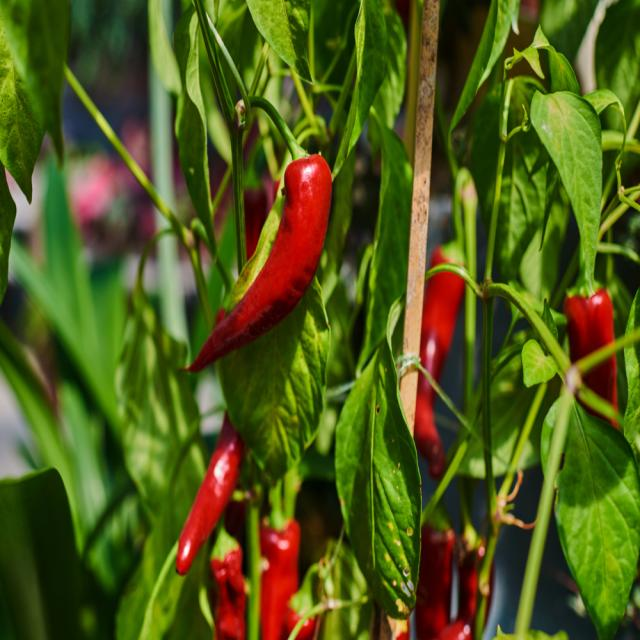Ripe: (188, 155, 331, 371), (414, 249, 469, 476), (176, 412, 244, 574), (564, 290, 621, 408), (435, 537, 484, 639), (260, 518, 300, 640), (415, 526, 455, 640), (209, 544, 246, 638)
